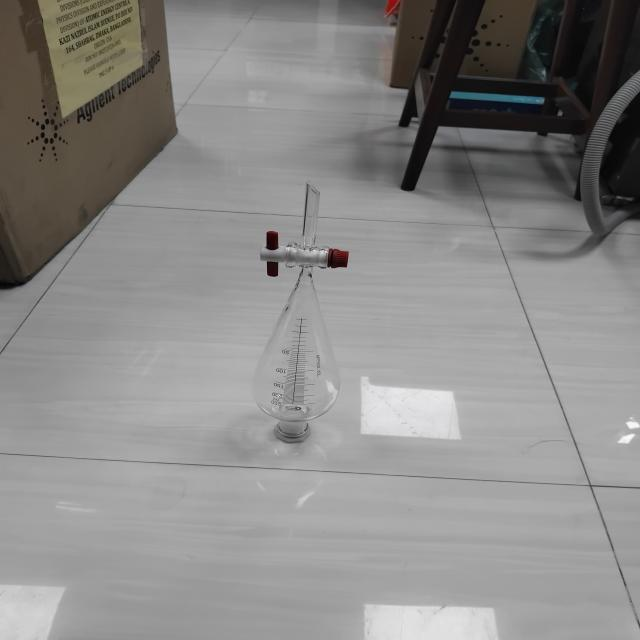Separating_Funnel: (207, 163, 400, 462)
